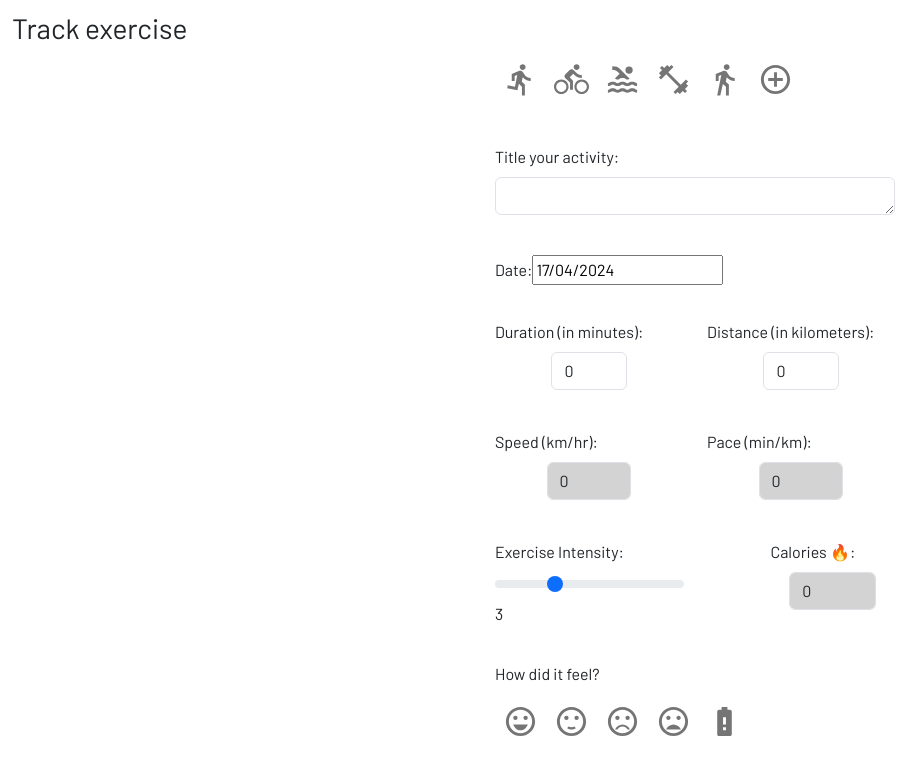
TrackExercise Component › reps and sets is visible when tracking workout
This screenshot has width=912, height=767.
Click the button with test id "Gym Icon".
click(674, 79)  # box [648,54,699,105]
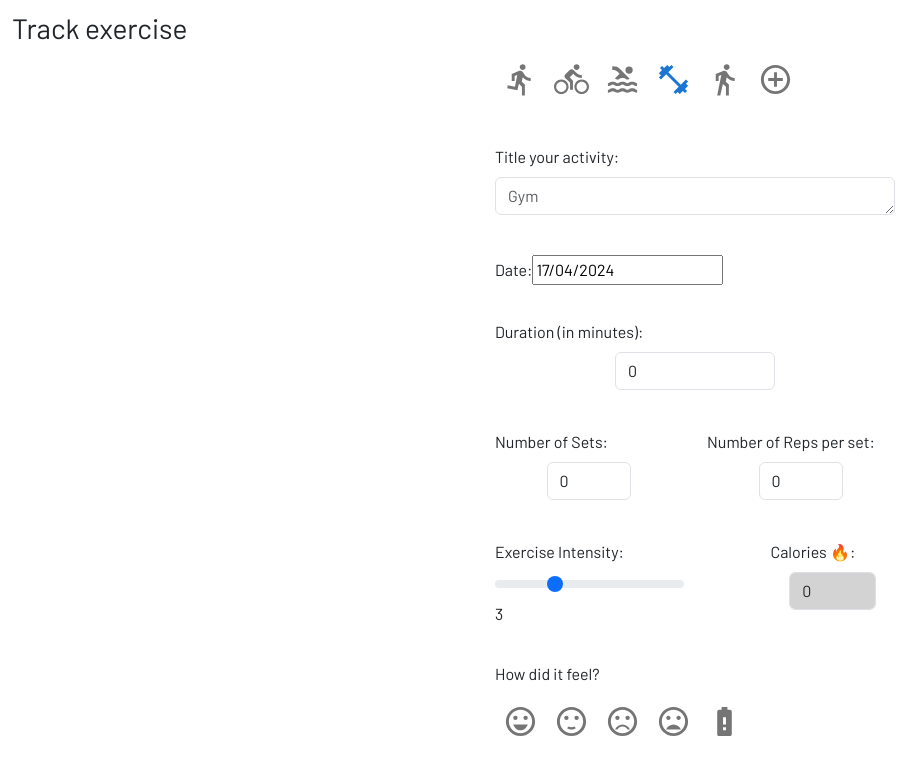
Expected: the element with test id "reps" is shown, [707,432,875,500]
Expected: the element with test id "sets" is shown, [495,432,631,500]
